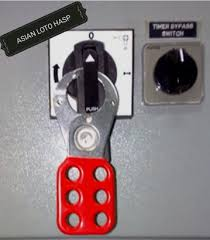hasp: (54, 68, 119, 238)
